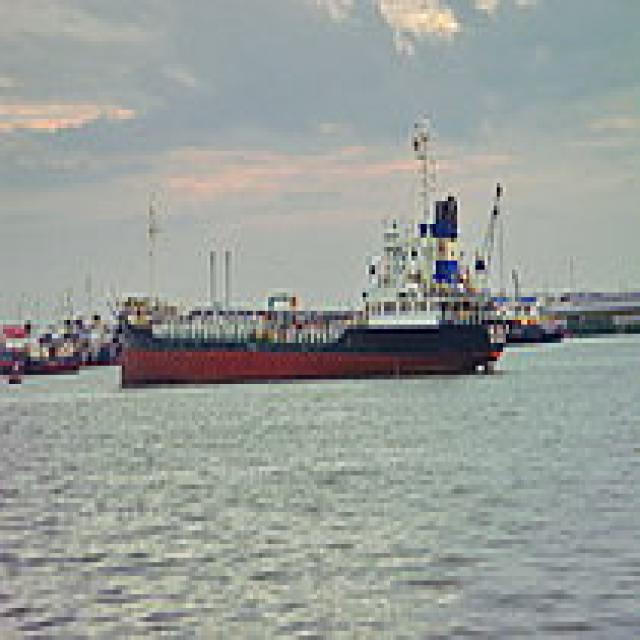Tanker: (107, 196, 515, 388)
